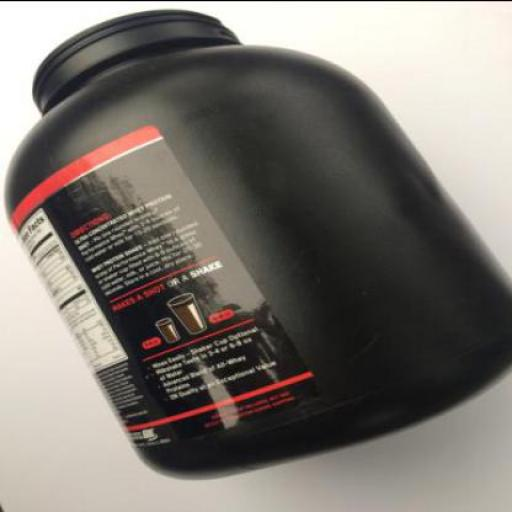plastic: (5, 7, 511, 479)
